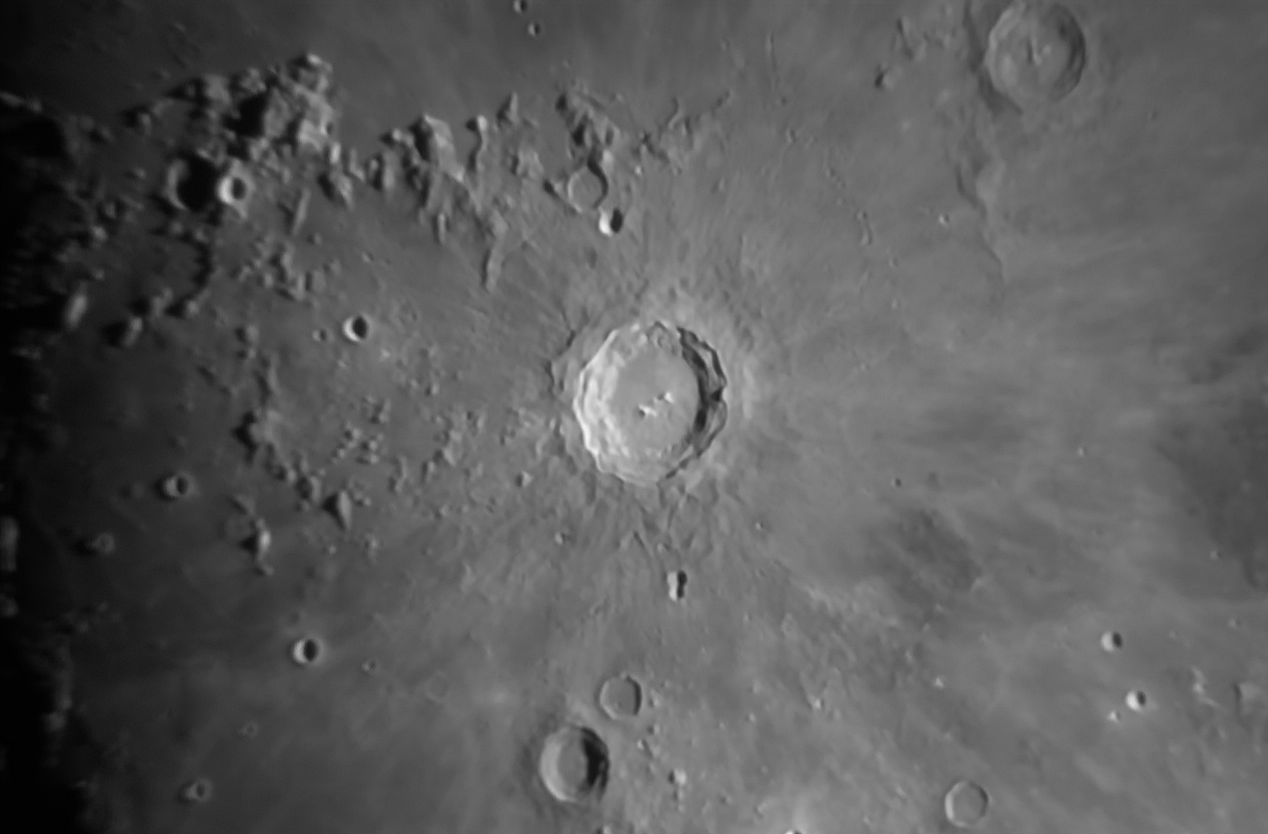crater: (501, 283, 834, 533), (934, 1, 1133, 166), (502, 710, 624, 826), (1054, 568, 1151, 668), (256, 611, 353, 701), (923, 764, 1010, 831), (325, 286, 390, 375), (587, 660, 668, 730)
